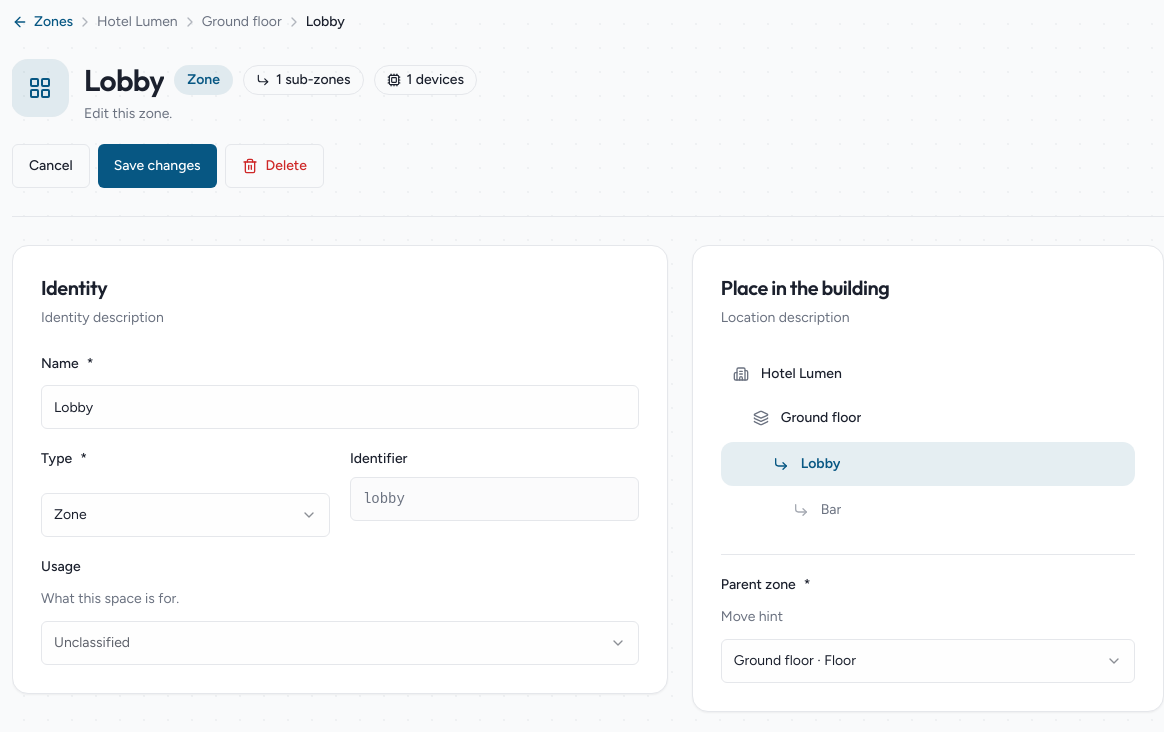
Test case: AssetEditWorkspace usage › hides the usage select of an unclassified asset off room/zone and reveals it back
The image size is (1164, 732).
Click the dropdown named "Type". click: {"x": 70, "y": 514}
box: [41, 492, 330, 536]
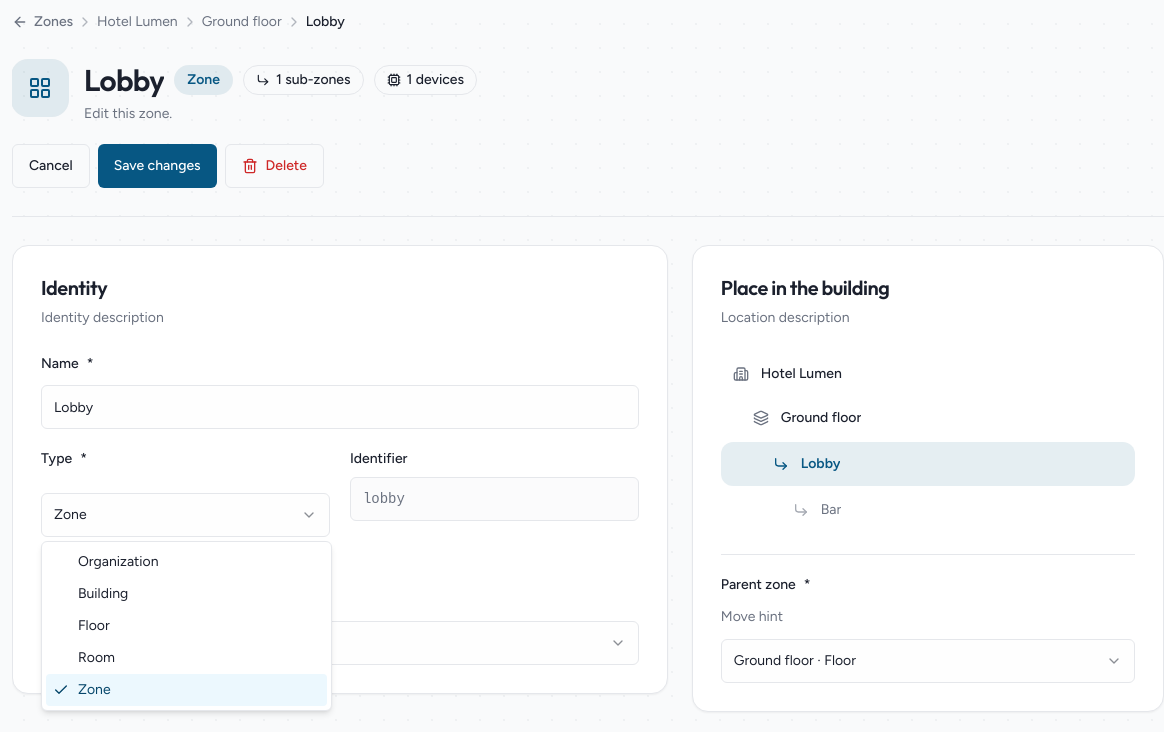
Click the option "Floor". click: {"x": 94, "y": 626}
box: [78, 617, 110, 634]
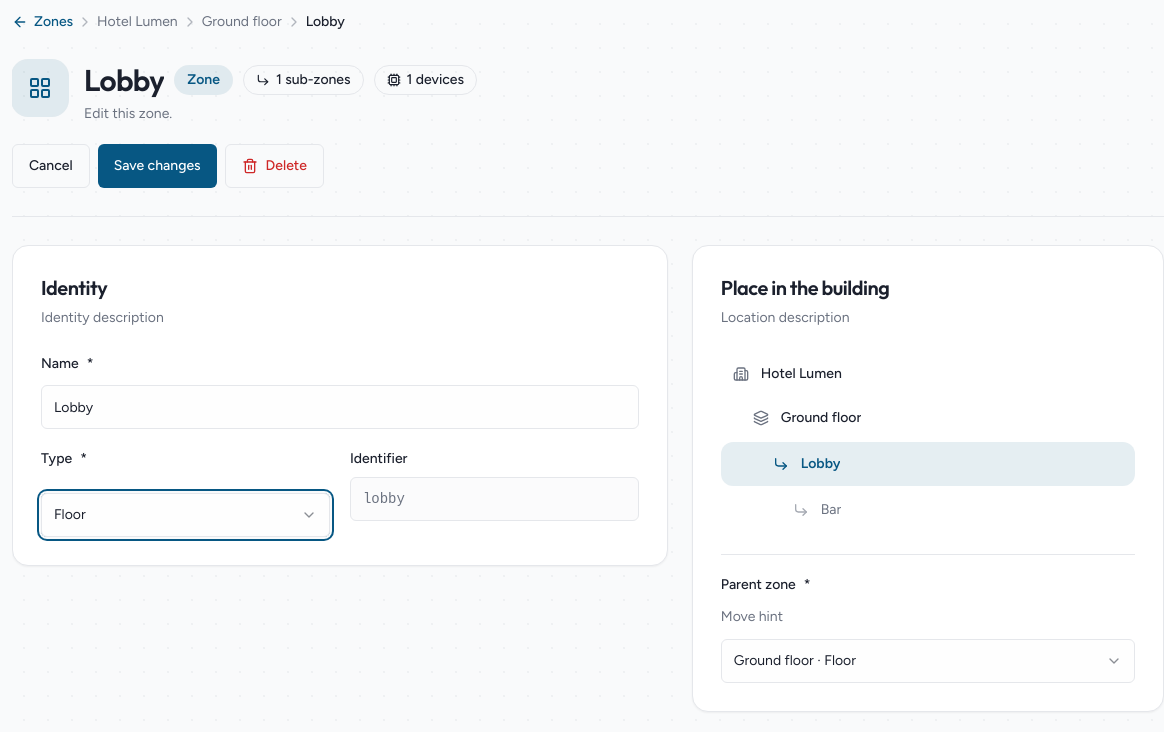
Expected: the label "Usage" is gone
Click the dropdown named "Type". click: {"x": 70, "y": 514}
box: [41, 492, 330, 536]
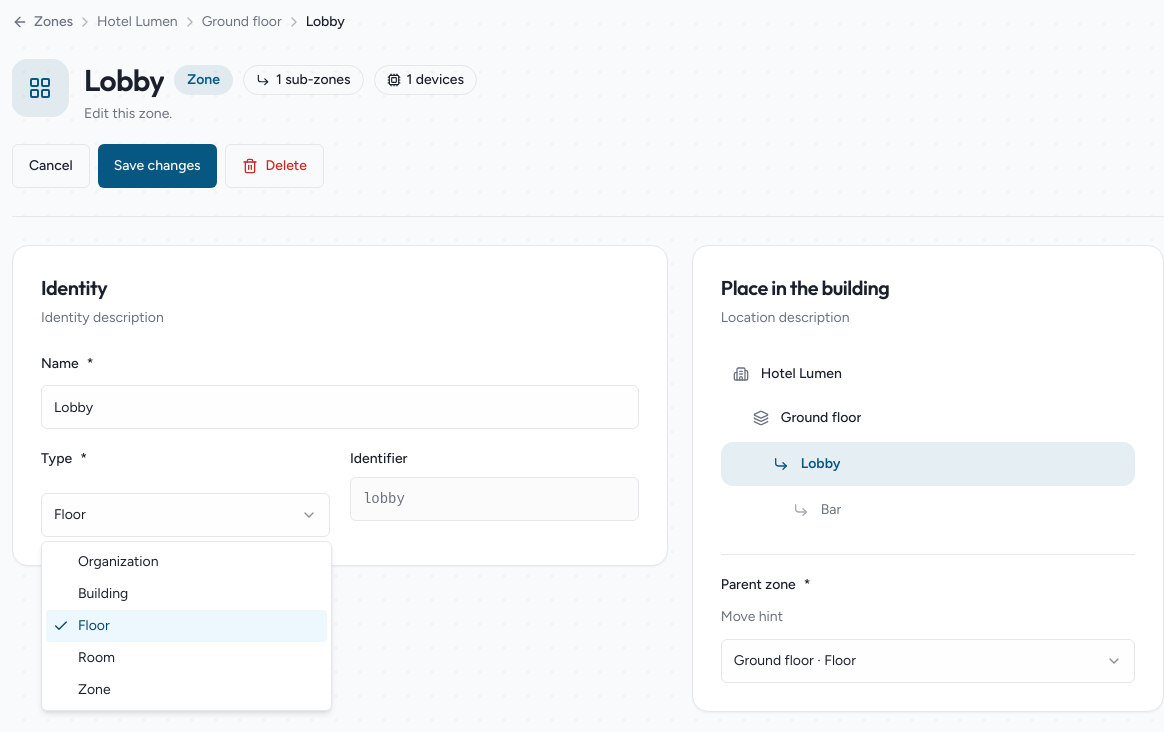
Click the option "Room". click: {"x": 96, "y": 658}
box: [78, 649, 115, 666]
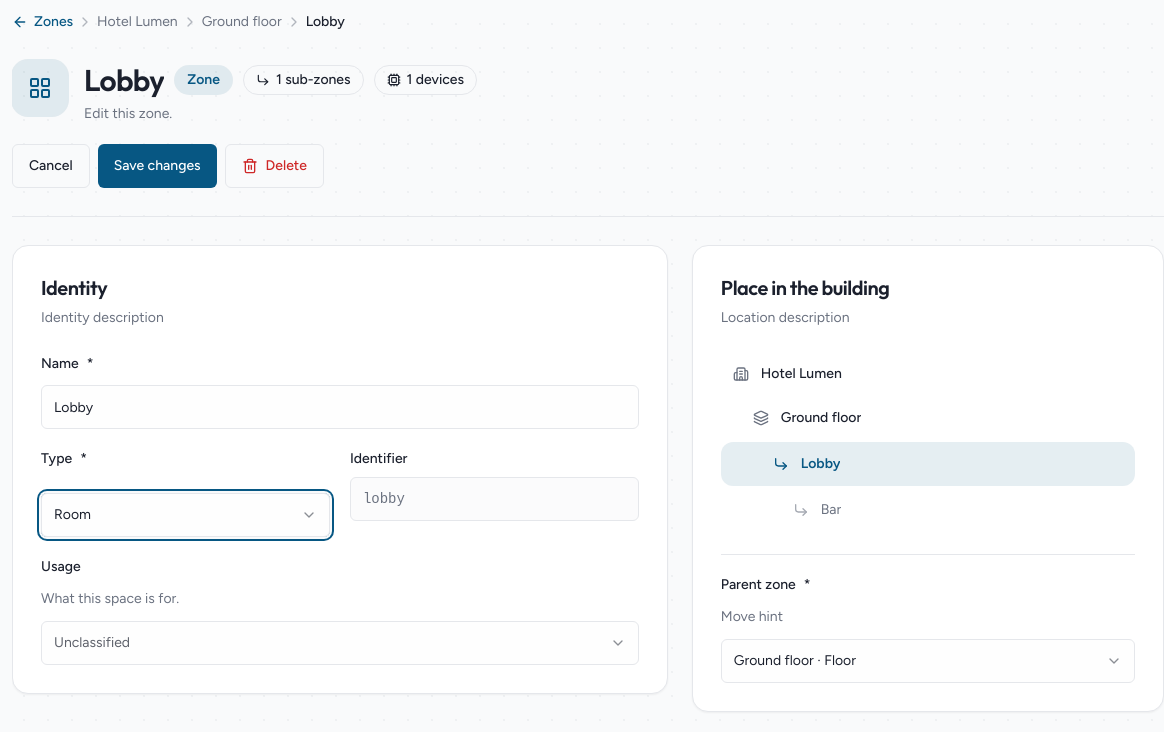
Expected: the dropdown named "Usage" is shown, [41, 621, 639, 665]
